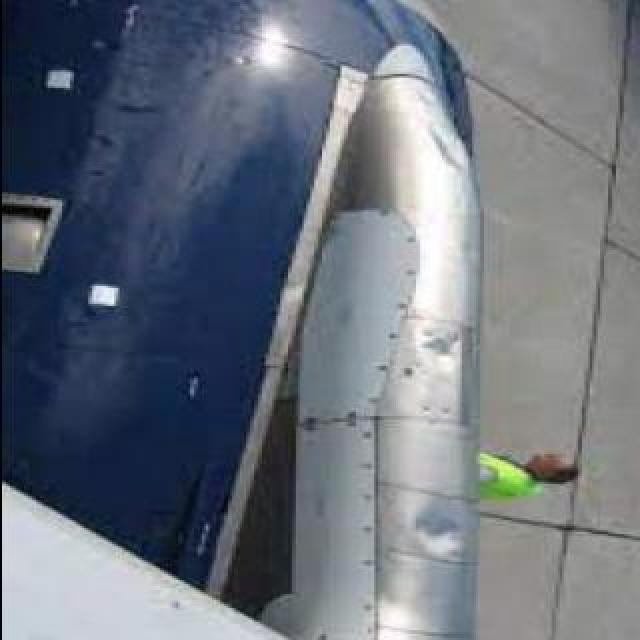dent: (408, 496, 470, 562), (412, 321, 460, 373), (423, 118, 467, 172)
